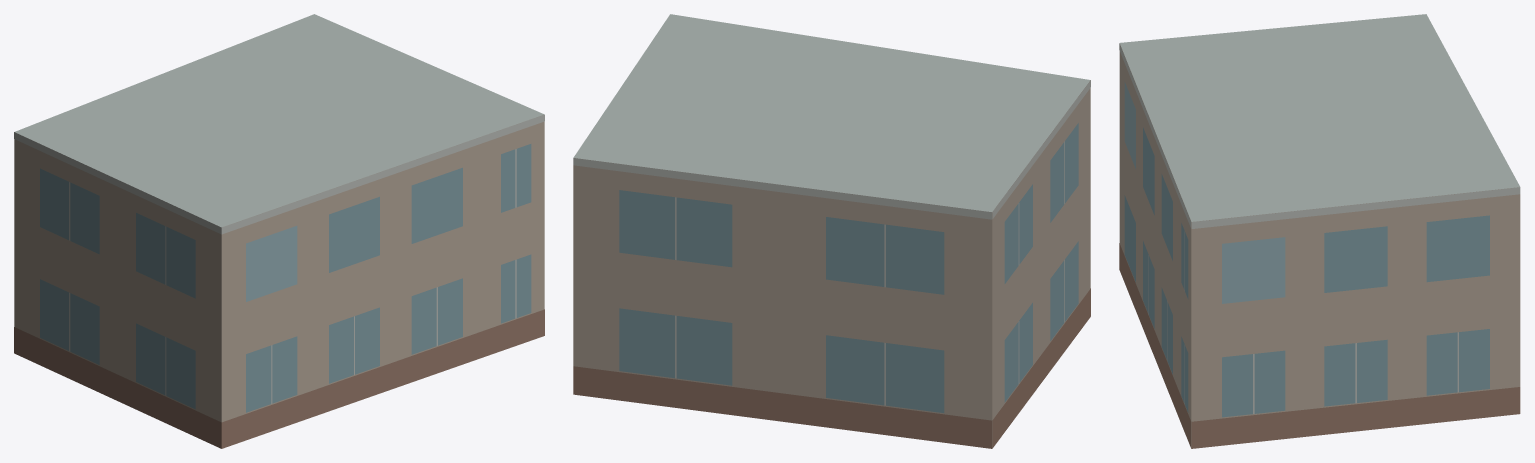
The model's file is survey-upis-32502184.glb.
3 renders of one model, left to right at view 1: azimuth 30°, elevation 25°; view 2: azimuth 150°, elevation 25°; view 3: azimuth 270°, elevation 25°, orthographic. The views are drawn at different scales.
Visible parts, largest first — view 1: survey-upis-32502184.tmp; view 2: survey-upis-32502184.tmp; view 3: survey-upis-32502184.tmp.
Part boxes in pixels (x1,y1,x2,y2): survey-upis-32502184.tmp: [14, 14, 544, 448]; survey-upis-32502184.tmp: [573, 14, 1090, 448]; survey-upis-32502184.tmp: [1119, 14, 1520, 448].
Bounding box in the file's own units: 15.15 × 7.7 × 12.34.
